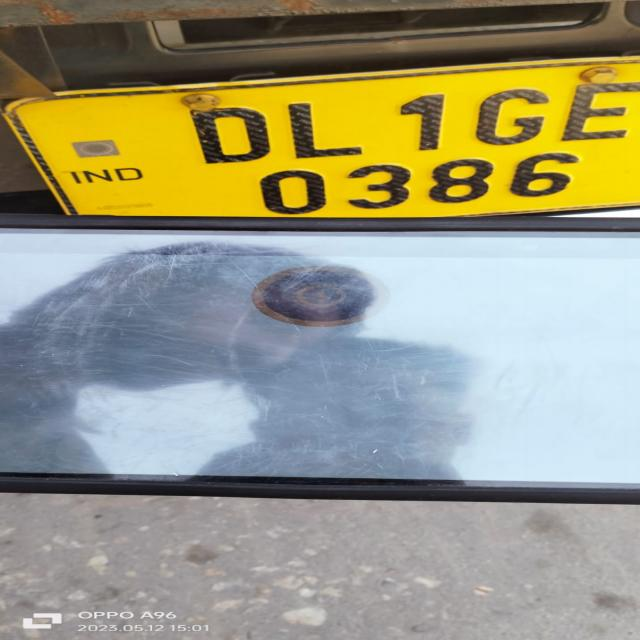License-plate: (152, 80, 640, 216)
